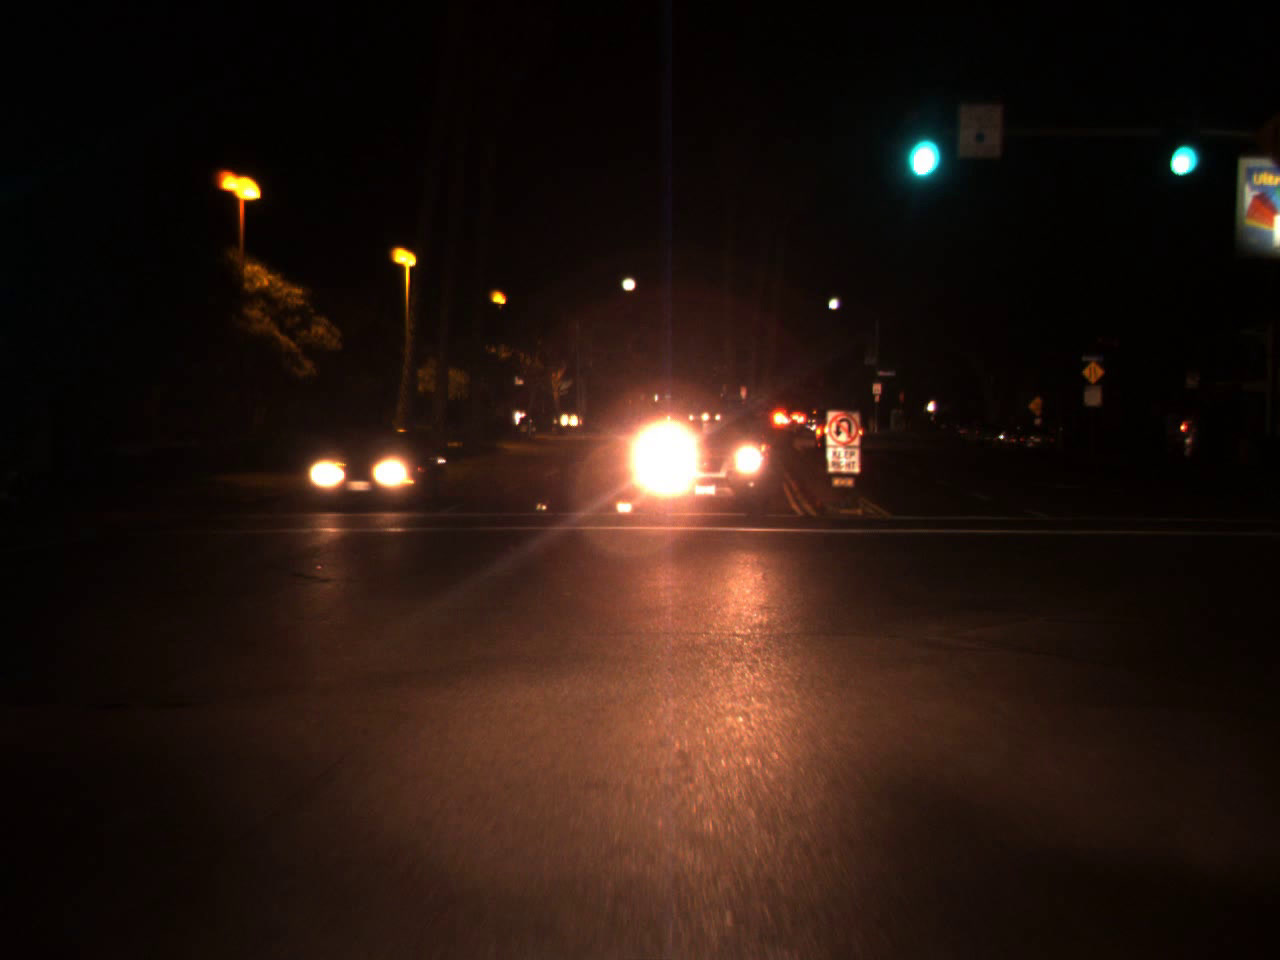go: (900, 102, 941, 189), (1160, 106, 1203, 187)
